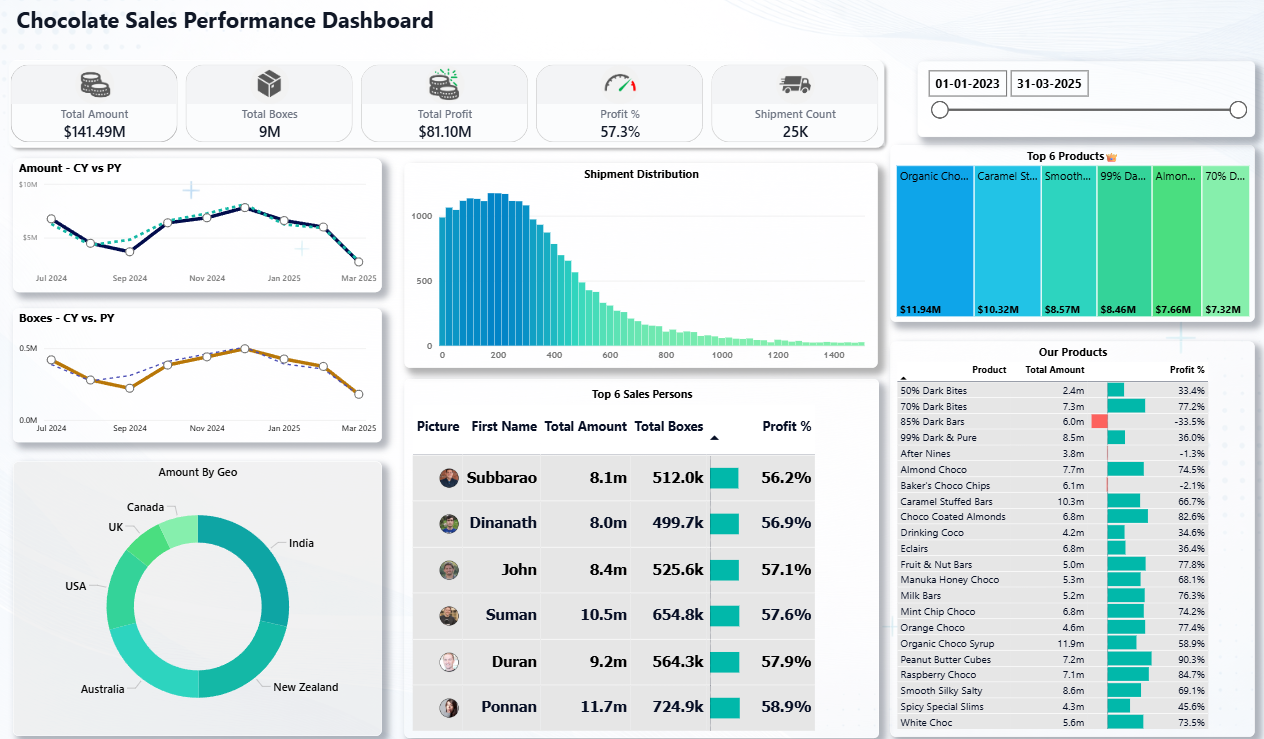

The dashboard page shown, as its layout file describes it:
{"tool":"powerbi","page":{"name":"Page 8","canvas":[1871,1080],"ordinal":7},"visuals":[{"type":"lineChart","title":"Amount - CY vs PY","fields":{"Category":["calendar.Start of Month"],"Y":["shipments.Total Amount","shipments.Total Amount(Last Year)"]},"box":[107.5,167.5,502.5,197.5],"z":0},{"type":"lineChart","title":"Boxes - CY vs. PY","fields":{"Category":["calendar.Start of Month"],"Y":["shipments.Total Boxes","shipments.Total Boxes(Last Year)"]},"box":[107.5,390,502.5,197.5],"z":1000},{"type":"donutChart","title":"Amount By Geo","fields":{"Category":["locations.Geo"],"Y":["shipments.Total Amount"]},"box":[107.5,615,502.5,405],"z":2000},{"type":"clusteredColumnChart","title":"Shipment Distribution","fields":{"Category":["shipments.Boxes (bins)"],"Y":["shipments.Shipment Count"]},"box":[640,167.5,645,302.5],"z":3000},{"type":"tableEx","title":"Top 6 Sales Persons","fields":{"Values":["people.Picture","people.First Name","shipments.Total Amount","shipments.Total Boxes","shipments.Profit %"]},"box":[640,493.3,646.7,530],"z":4000},{"type":"treemap","title":"Top 6 Products👑","fields":{"Group":["products.Product"],"Values":["shipments.Total Amount"]},"box":[1310,193.3,460,220],"z":5000},{"type":"tableEx","title":"Our Products","fields":{"Values":["products.Product","shipments.Total Amount","shipments.Profit %"]},"box":[1310,440,460,583.3],"z":5001},{"type":"cardVisual","fields":{"Data":["shipments.Total Amount","shipments.Total Boxes","shipments.Total Profit","shipments.Profit %","shipments.Shipment Count"]},"box":[106.7,46.7,1180,86.7],"z":5002},{"type":"slicer","fields":{"Values":["calendar.cal_date"]},"box":[1310,46.7,460,86.7],"z":5003}]}

Visuals, with their boxes in screenshot pixels (x1, y1, x2, y2), scaled from the page's 1871x1080 canvas onto the 1264x739 screenshot:
"Amount - CY vs PY" lineChart: x1=73 y1=115 x2=412 y2=250
"Boxes - CY vs. PY" lineChart: x1=73 y1=267 x2=412 y2=402
"Amount By Geo" donutChart: x1=73 y1=421 x2=412 y2=698
"Shipment Distribution" clusteredColumnChart: x1=432 y1=115 x2=868 y2=322
"Top 6 Sales Persons" tableEx: x1=432 y1=338 x2=869 y2=700
"Top 6 Products👑" treemap: x1=885 y1=132 x2=1196 y2=283
"Our Products" tableEx: x1=885 y1=301 x2=1196 y2=700
cardVisual - shipments.Total Amount x shipments.Total Boxes: x1=72 y1=32 x2=869 y2=91
slicer - calendar.cal_date: x1=885 y1=32 x2=1196 y2=91
